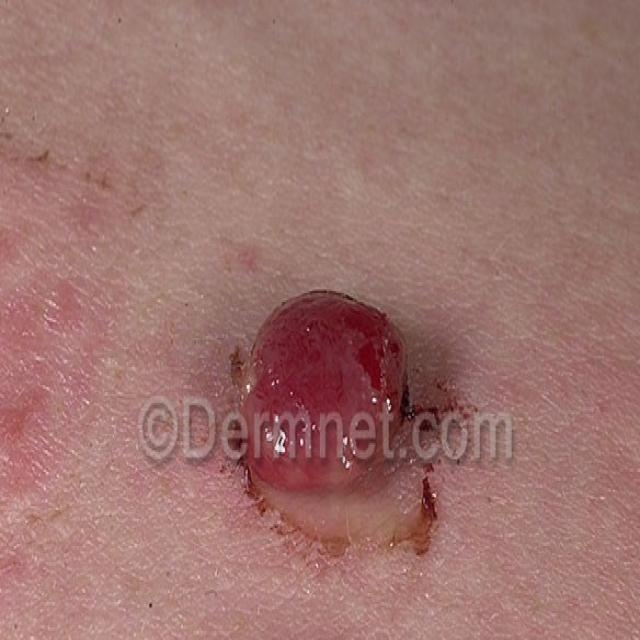Vascular Tumors: (219, 242, 460, 584)
